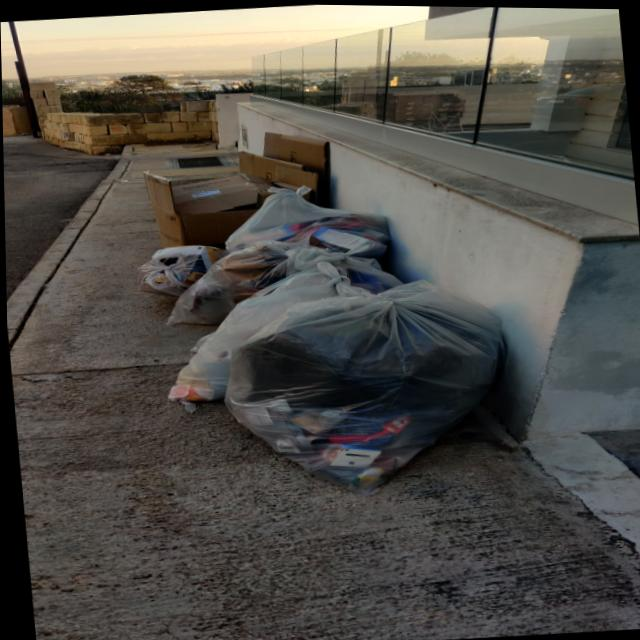Organic Waste -White Bags-: (123, 190, 519, 497)
Others Waste: (138, 130, 328, 243)
